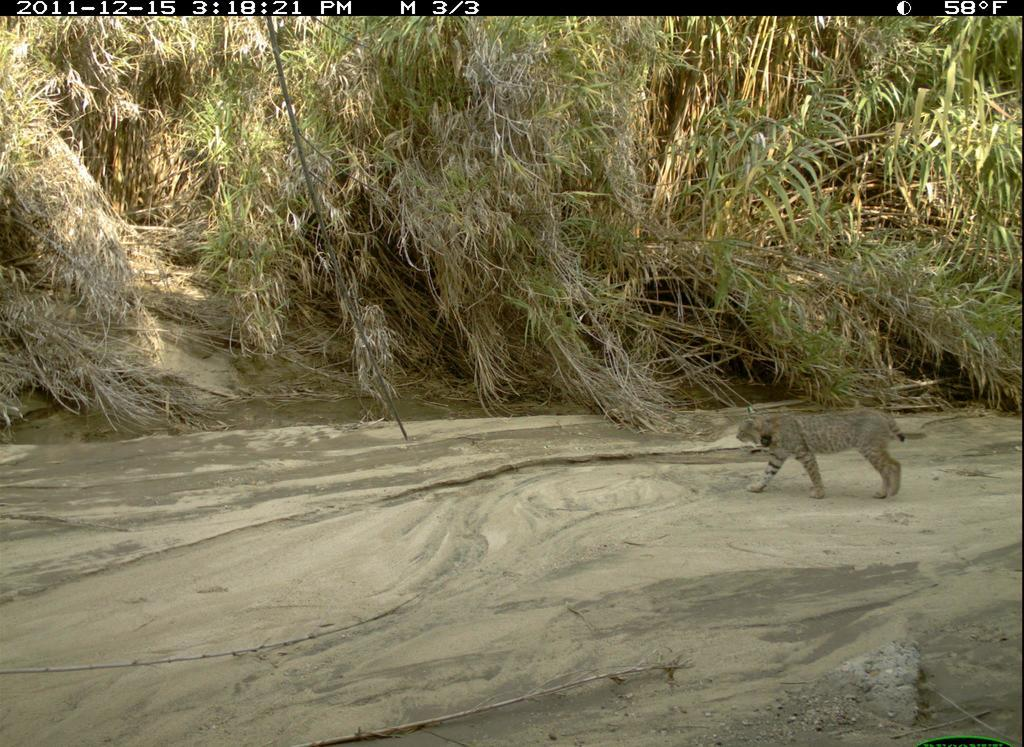bobcat: (726, 399, 926, 502)
